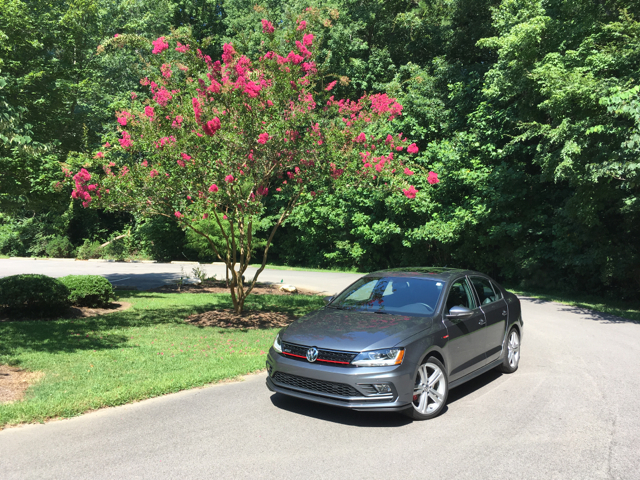car: (265, 266, 524, 418)
